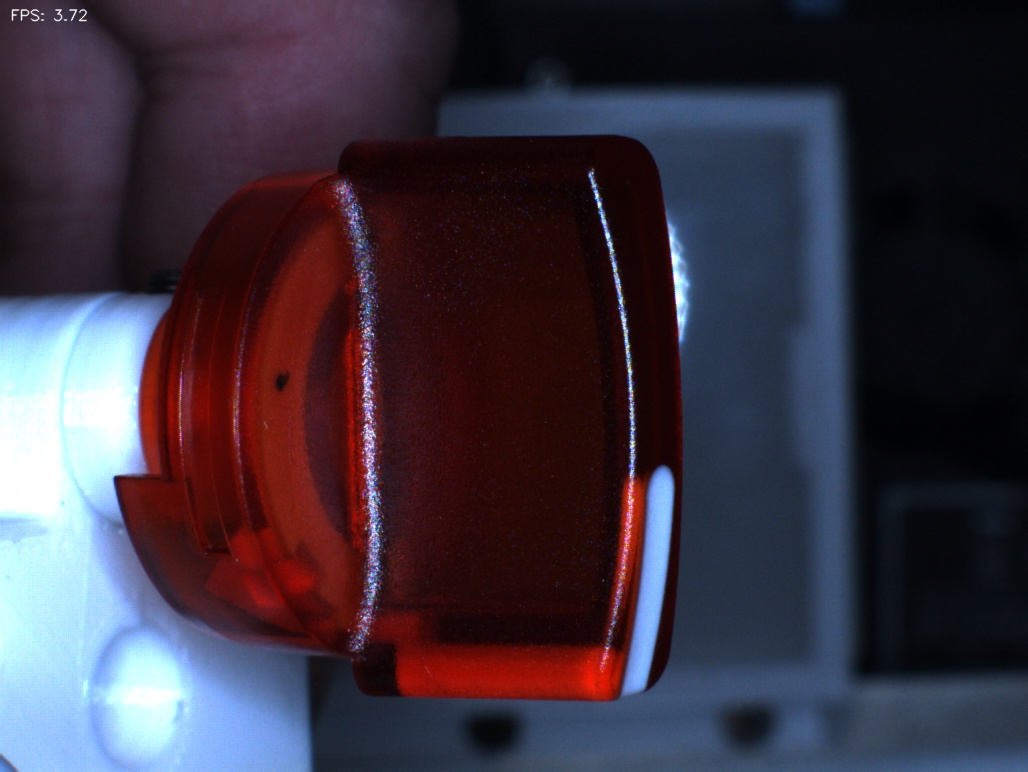PointNoir: (238, 341, 332, 430)
